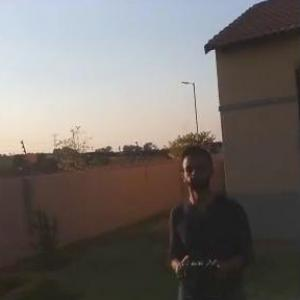follow: (158, 139, 256, 299)
